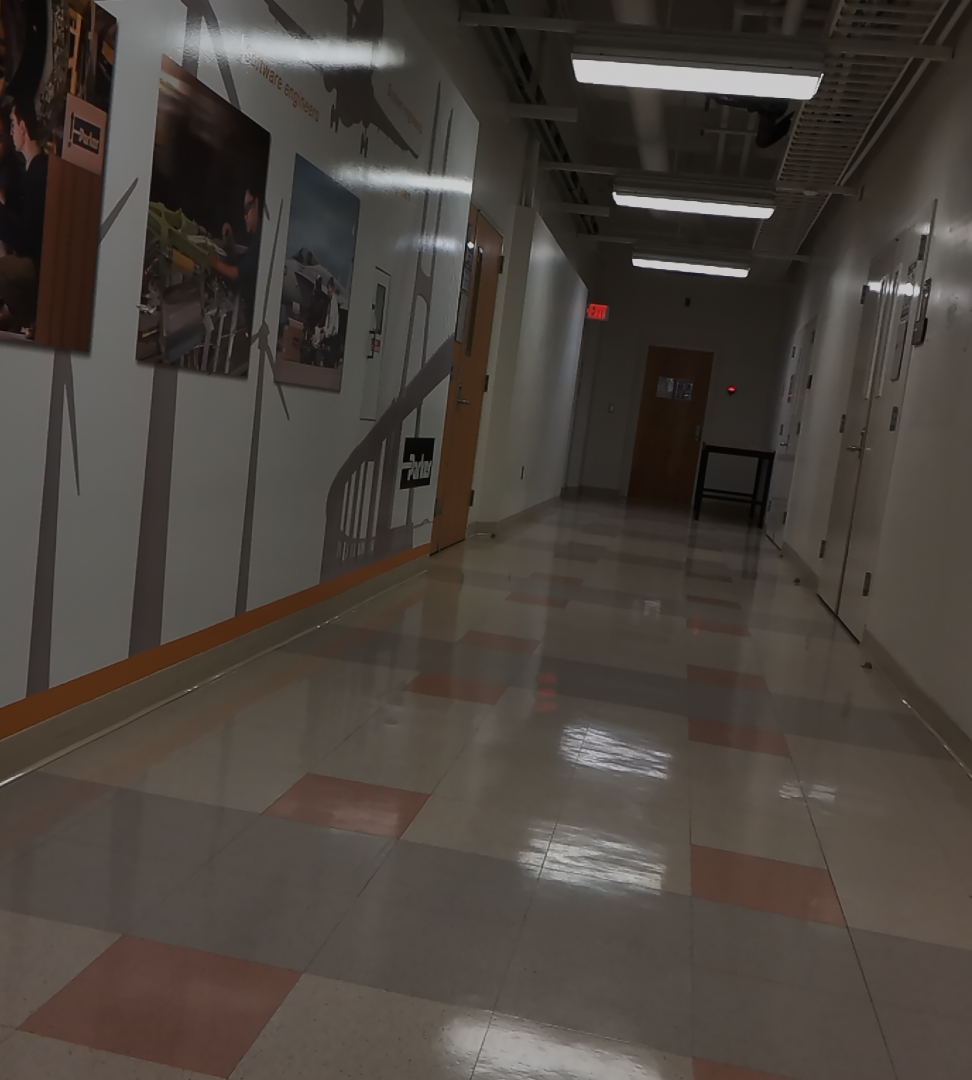emergency_exit: (397, 435, 436, 489), (584, 300, 610, 322)
